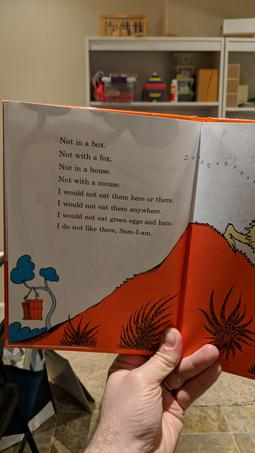text block: (50, 130, 179, 243)
